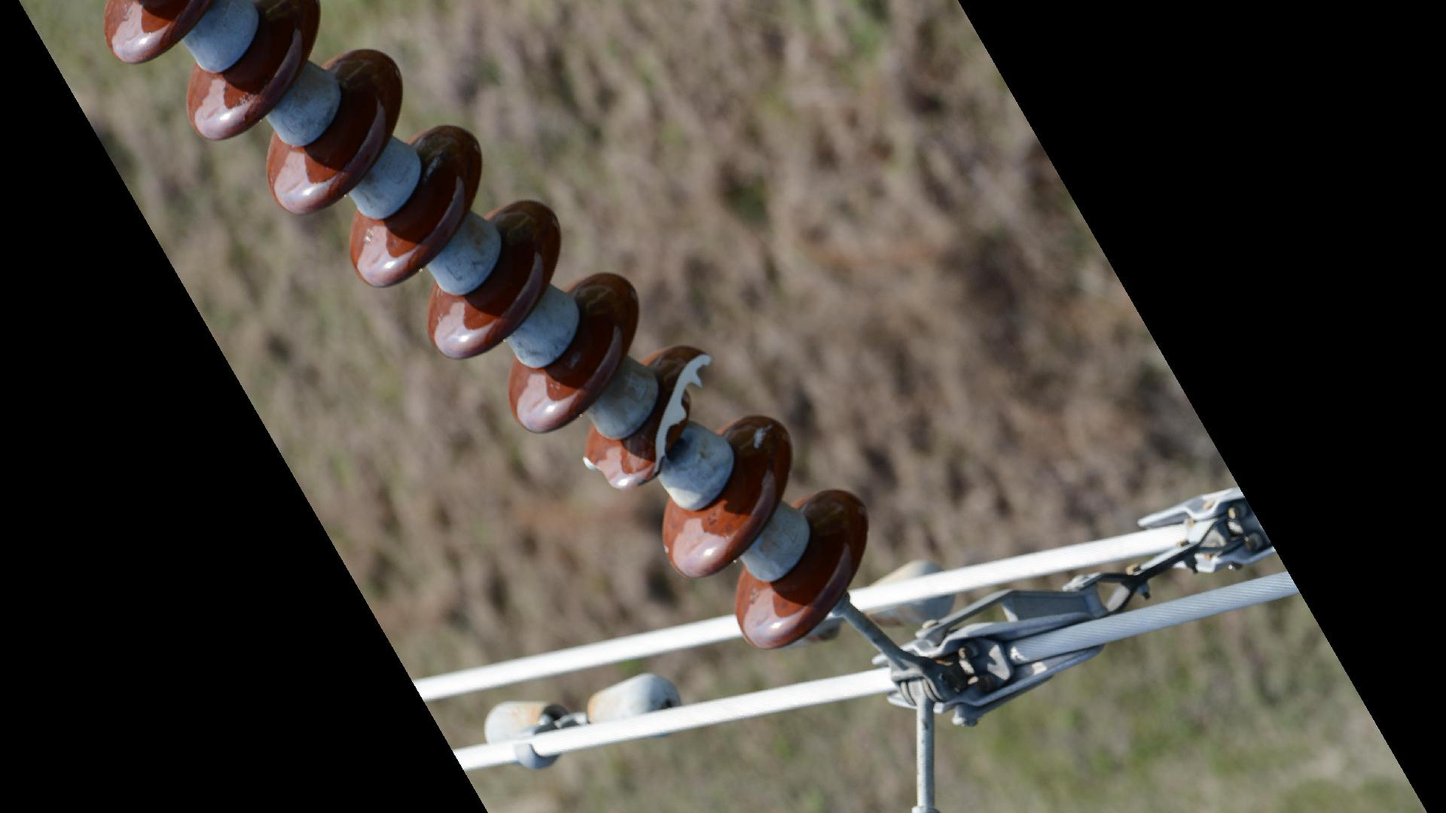insulator: (94, 1, 877, 658)
insulator_breakage: (640, 338, 718, 483), (570, 440, 638, 498)
